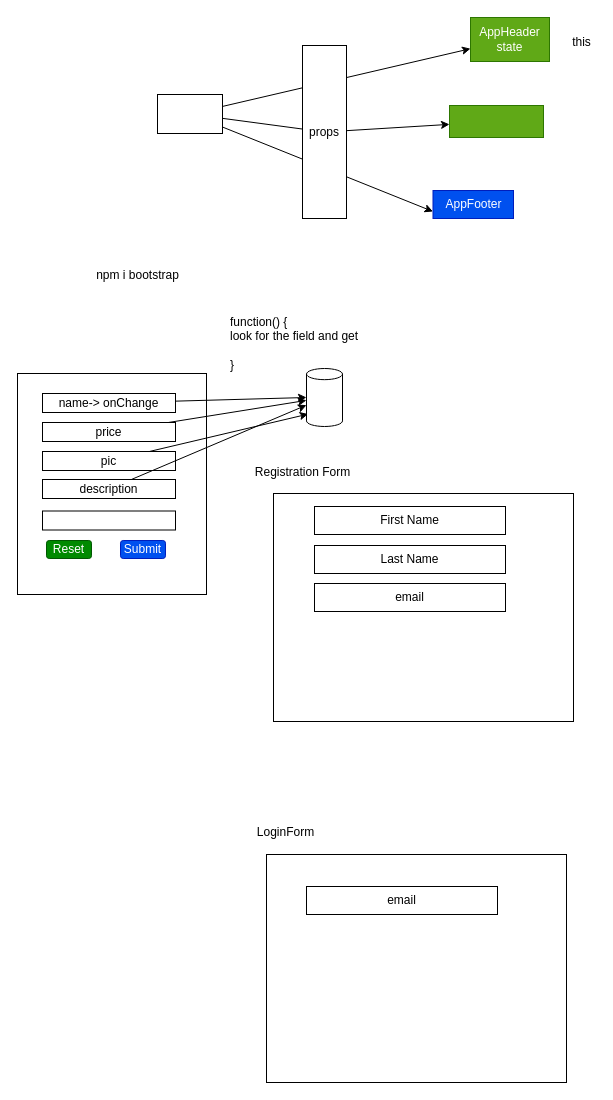
The diagram is 613 pixels wide and 1100 high, and some of its shapes have lost their labels. The centre of each missing label's shape, as x and y in pixels:
address: [109,520]
APP: [189,114]
AppComponent: [496,121]
State: [324,397]
